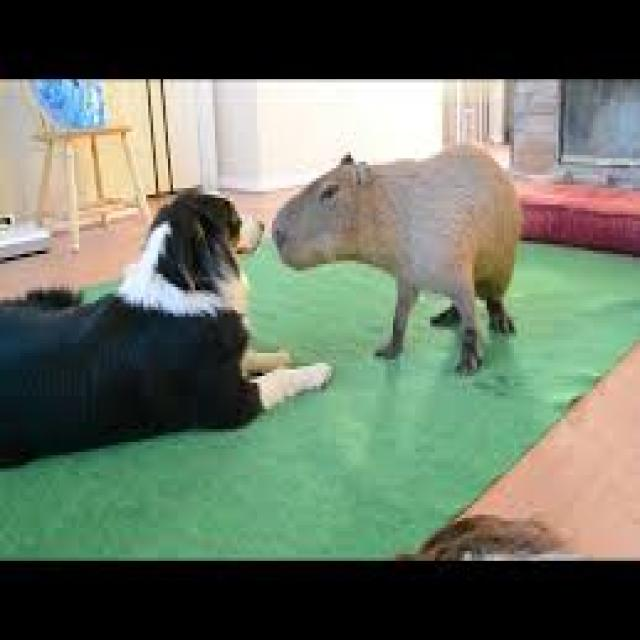capy: (268, 146, 523, 378)
